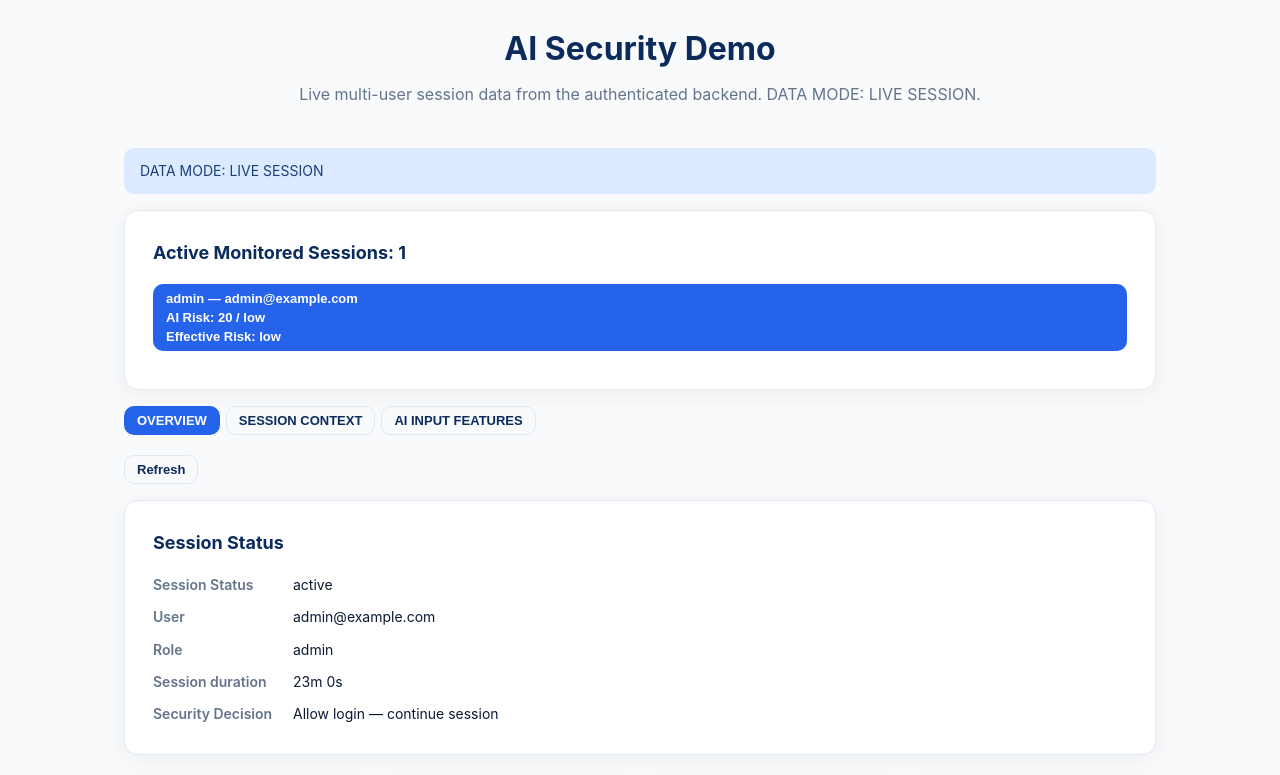
AIDemoPage — single active session › shows baseline and current session context
Expected: the text "admin@example.com" is shown, [293,608,435,625]
Click the tab with test id "tab-session-context" at x=301, y=420, box [226,406,375,435]
(page scrolled)
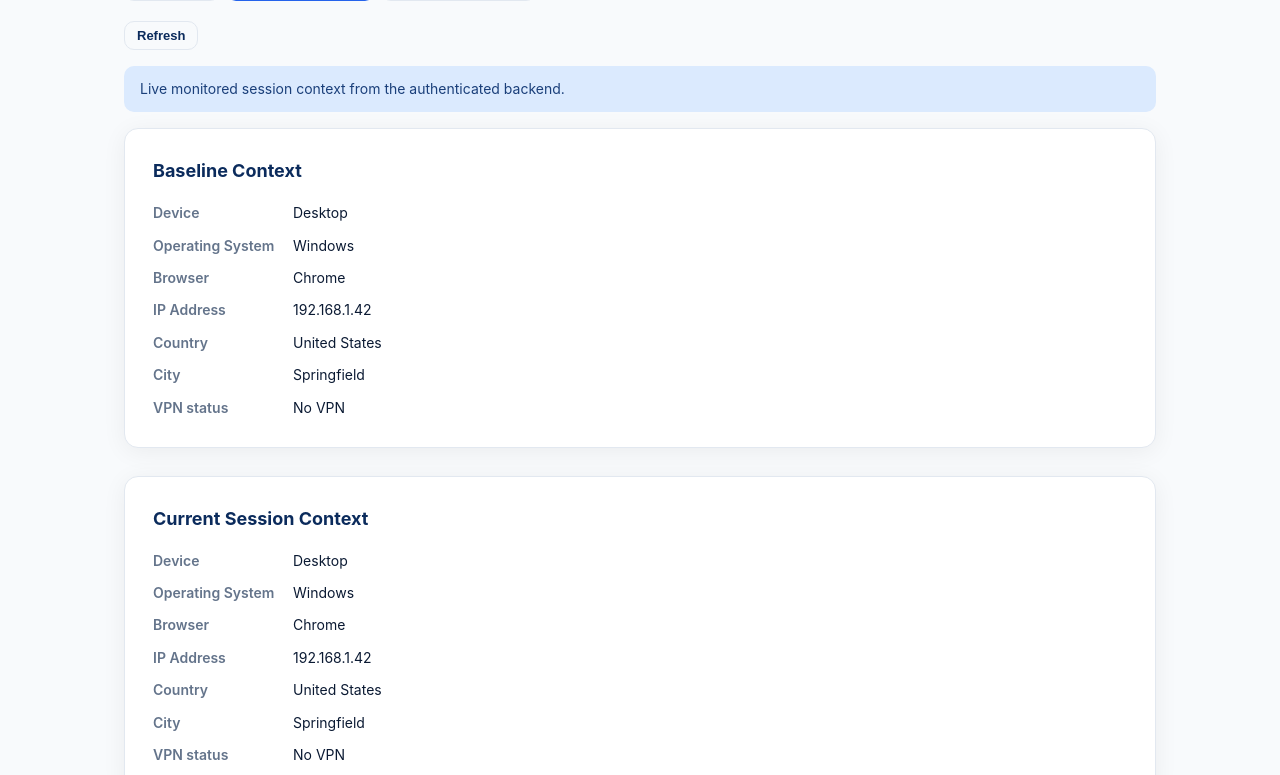
Expected: the heading "Baseline Context" is shown, [153,160,302,181]
Expected: the heading "Current Session Context" is shown, [153,508,368,529]
Expected: the text "Desktop" below "Baseline Context" is shown, [293,204,348,221]
